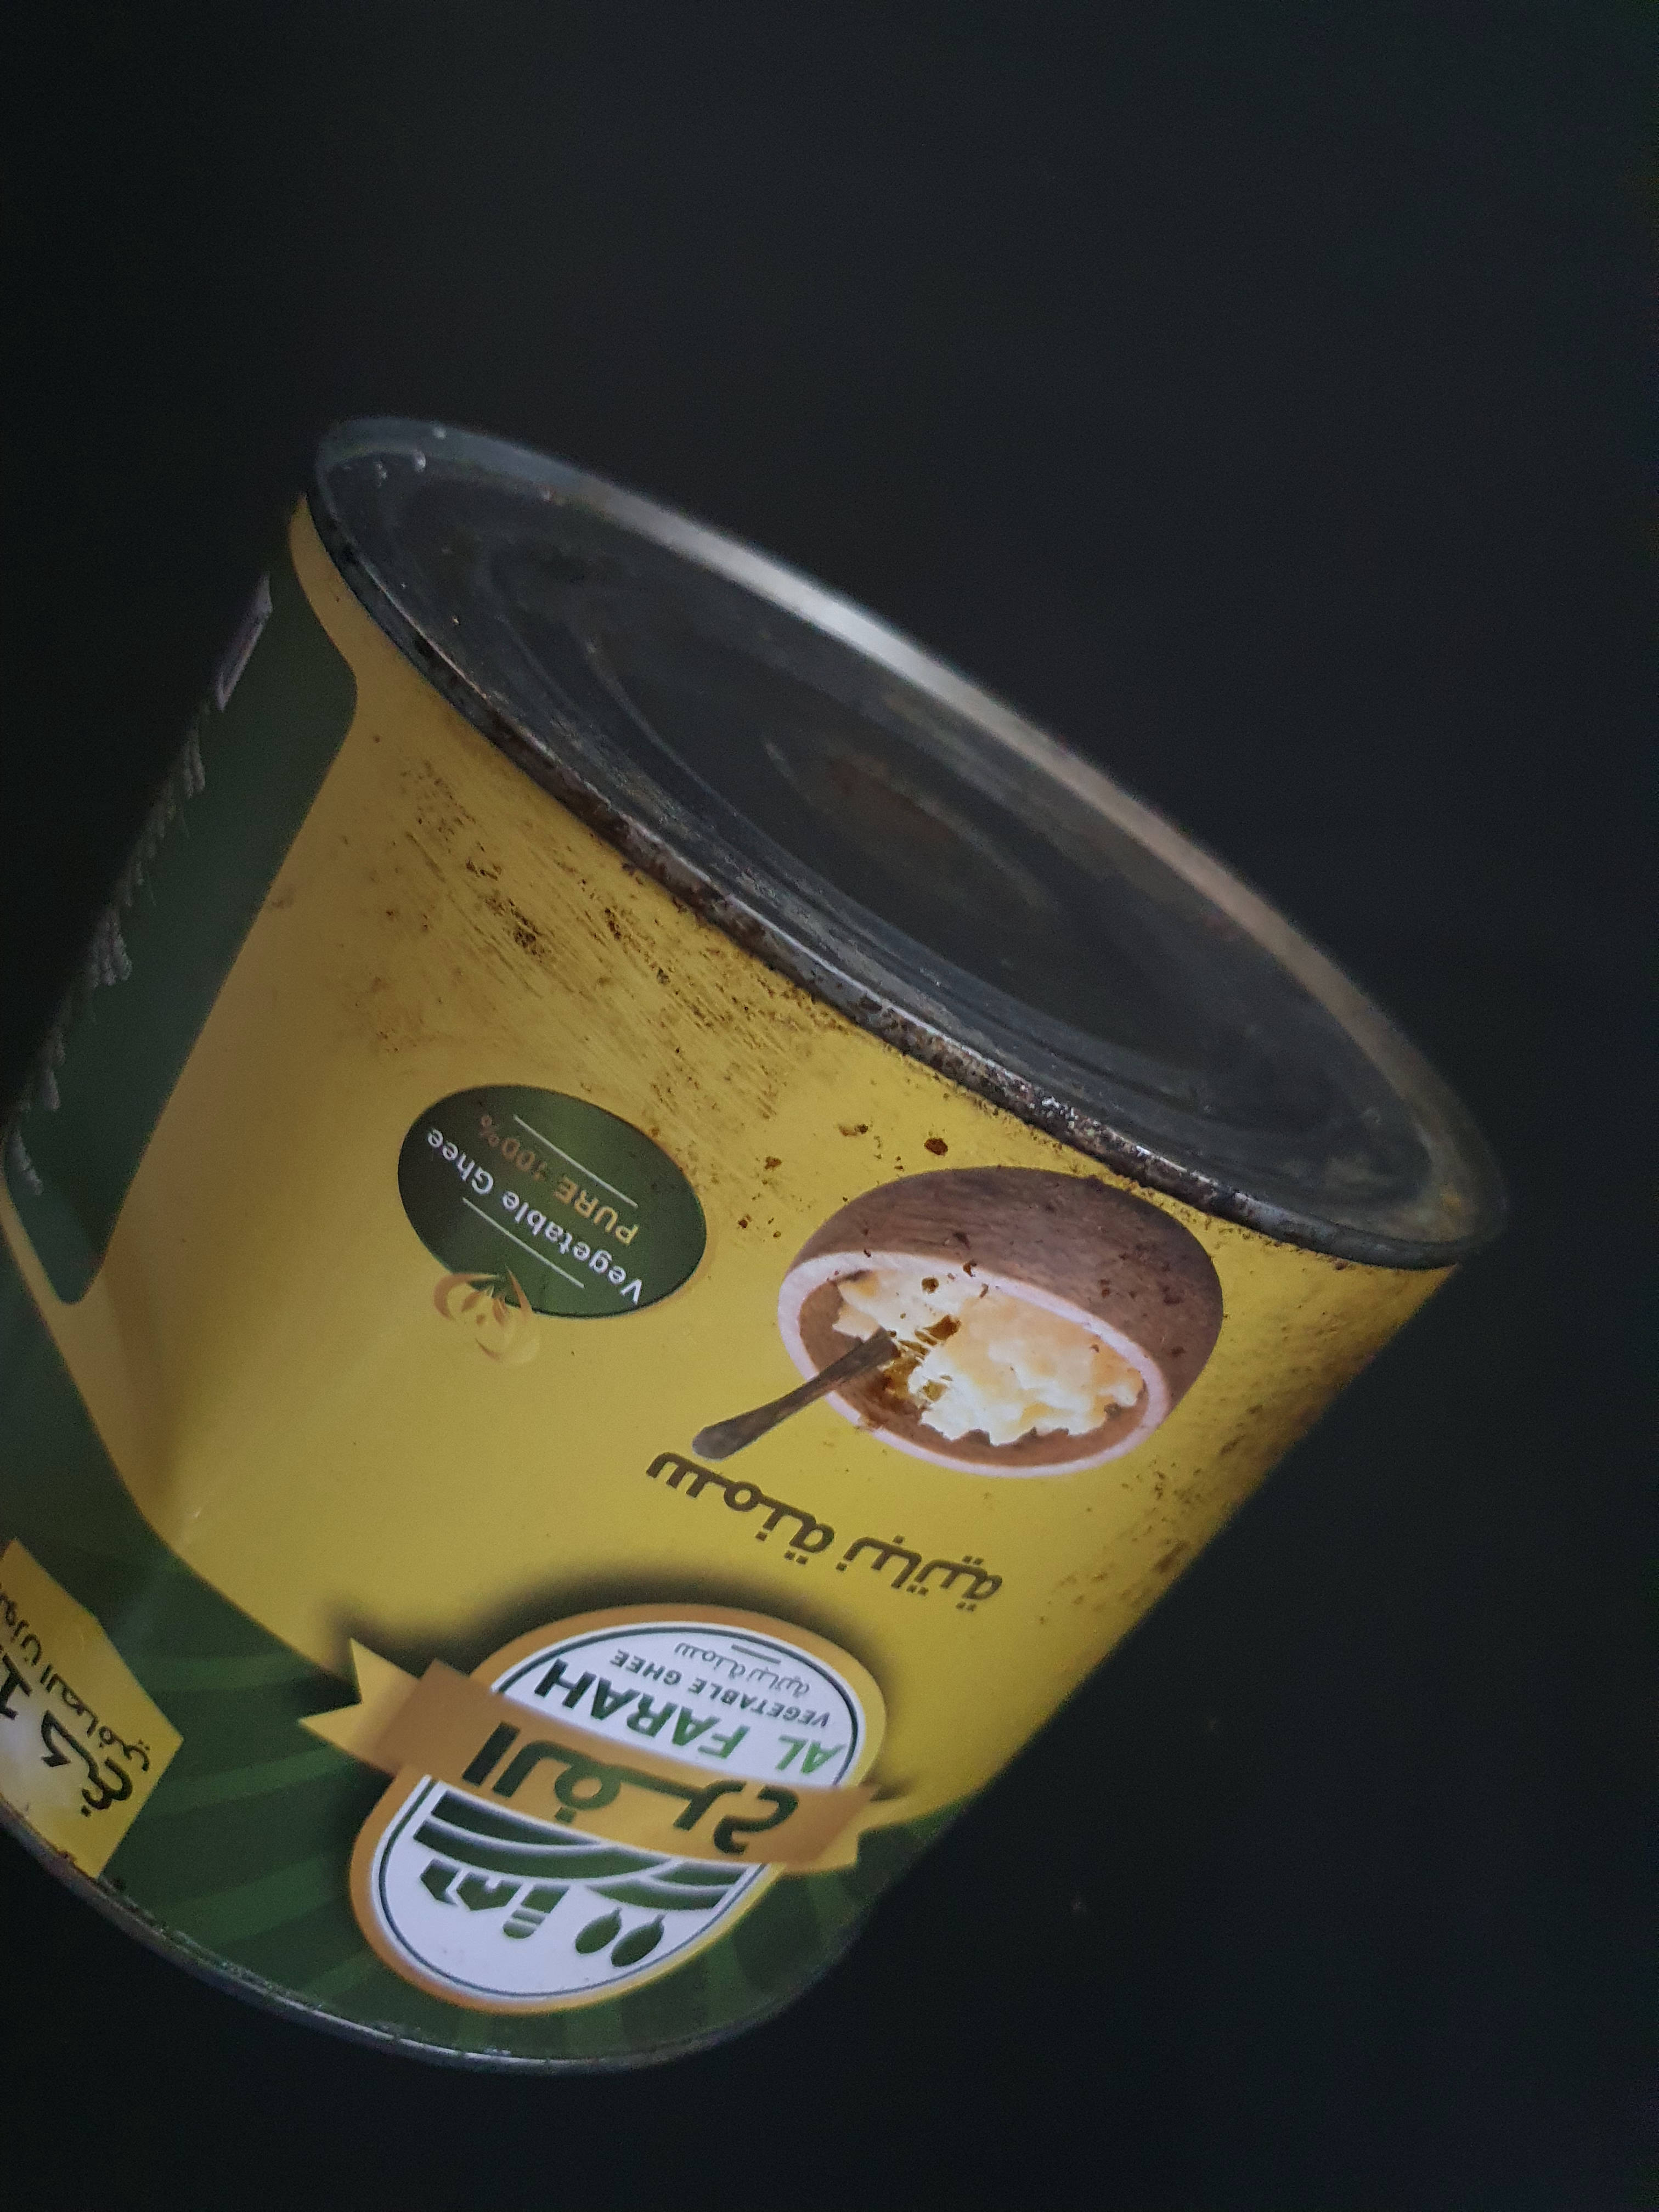metal: (3, 340, 1497, 2099)
